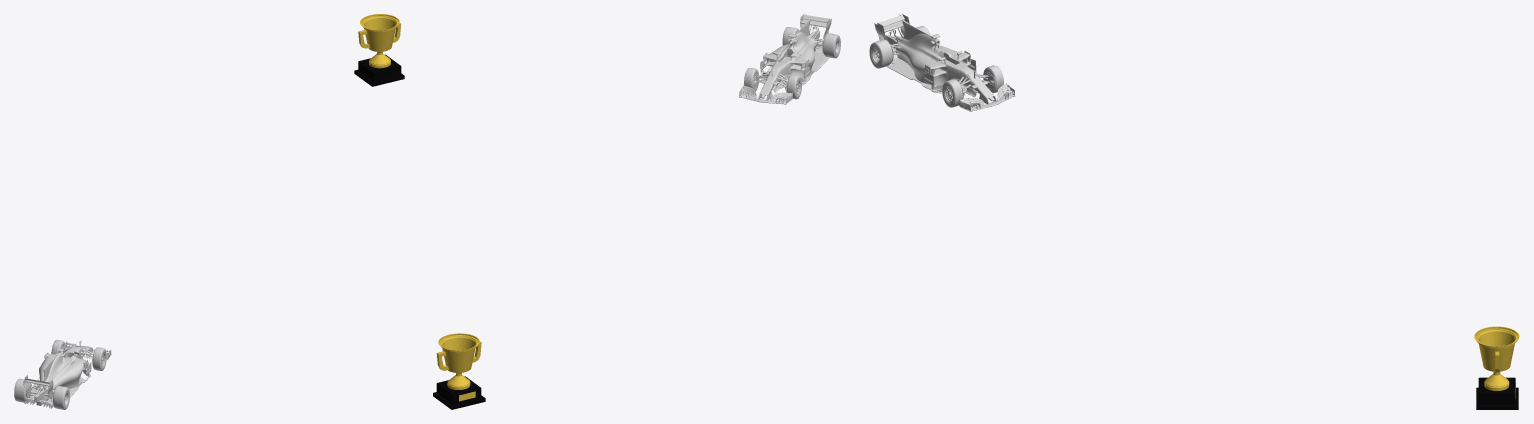
File: for_кубок2.0.glb
3 renders of one model, left to right at view 1: azimuth 30°, elevation 25°; view 2: azimuth 210°, elevation 25°; view 3: azimuth 270°, elevation 25°, orthographic. The views are drawn at different scales.
Visible parts, largest first — view 1: for1, Cylinder, Cube.001; view 2: for1, Cylinder, Cube.001; view 3: for1, Cylinder, Cube.001.
Part boxes in pixels (x1,y1,x2,y2): for1: (14, 339, 111, 409); Cylinder: (360, 14, 399, 51); Cube.001: (358, 54, 401, 81); for1: (739, 14, 840, 104); Cylinder: (438, 333, 479, 372); Cube.001: (436, 376, 481, 404); for1: (869, 14, 1015, 111); Cylinder: (1474, 326, 1519, 371); Cube.001: (1478, 377, 1515, 404).
Size of the model in its own units: 38.41 by 3.16 by 29.04.
